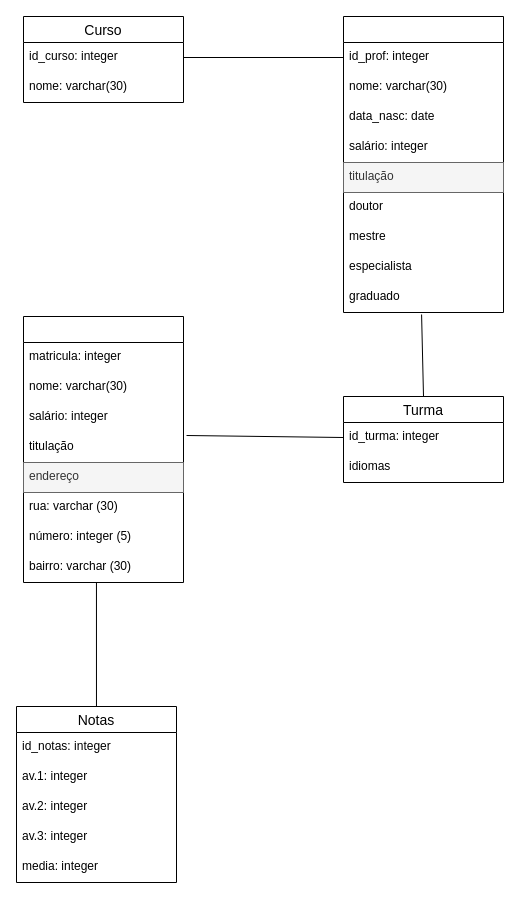
Some shapes in this 520 by 899 pixel diagram are drawn without their labels. Here are the shapes that lost their labels. From the top down, the box of each, then its label:
(342, 16, 504, 312): Professores
(22, 316, 184, 582): Alunos
